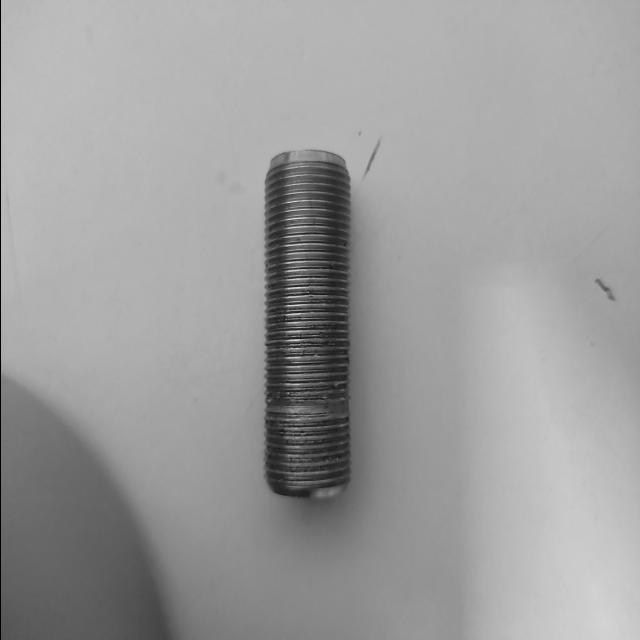Broken: (260, 151, 352, 497)
